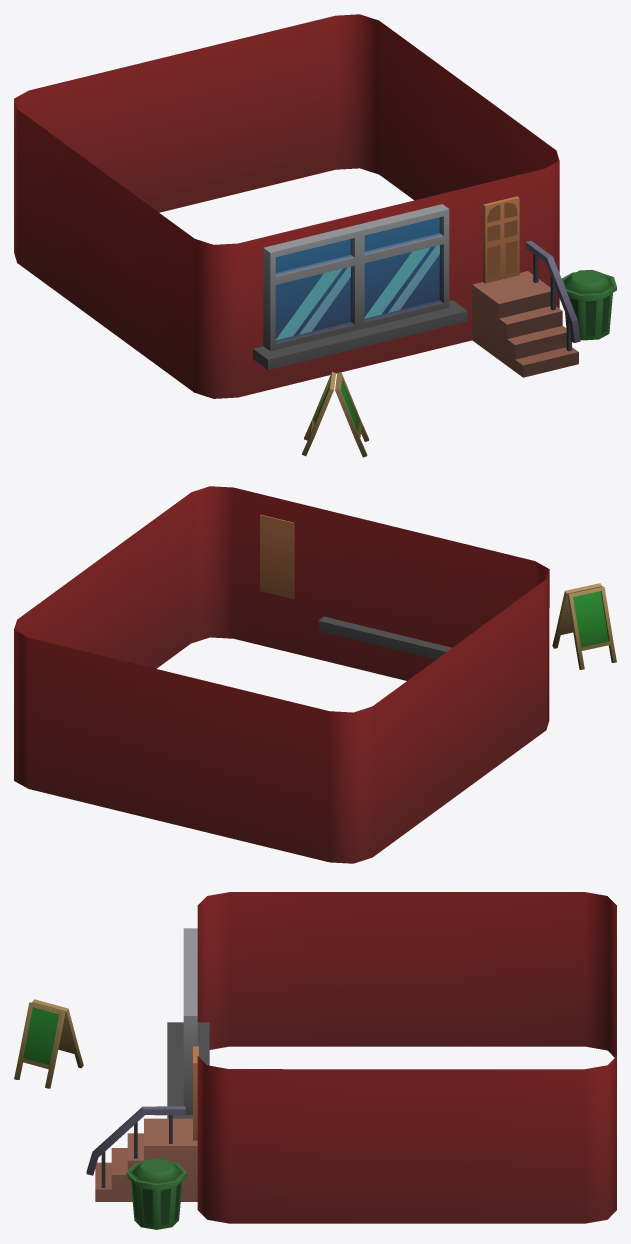
The model's file is House_1_bottom.fbx.
3 renders of one model, top to bottom at view 1: azimuth 30°, elevation 25°; view 2: azimuth 150°, elevation 25°; view 3: azimuth 270°, elevation 25°, orthographic. The views are drawn at different scales.
Visible parts, largest first — view 1: Cube.003; view 2: Cube.003; view 3: Cube.003.
Boxes of the visible parts, box(x1,y1,x2,y2) form: Cube.003: box(14, 14, 616, 457); Cube.003: box(14, 486, 616, 863); Cube.003: box(14, 892, 616, 1229).
Bounding box in the file's own units: 106 × 41.26 × 144.
